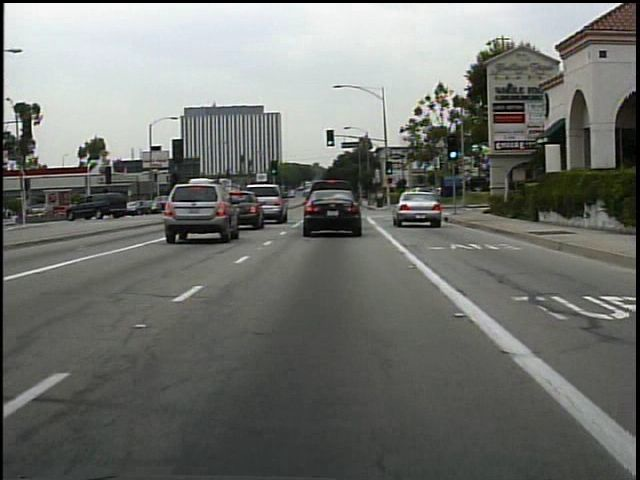person: (373, 188, 387, 211)
